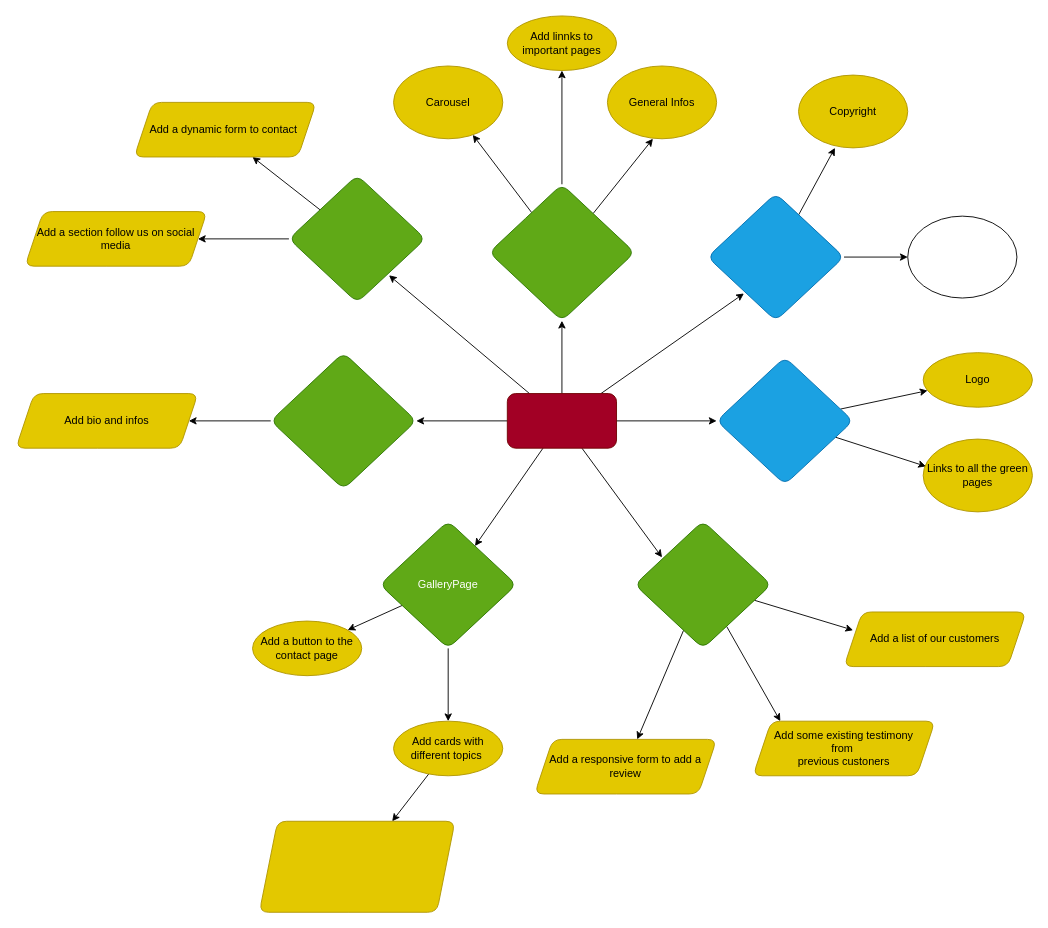
The diagram is 1048 pixels wide and 928 high, and some of its shapes have lost their labels. Here are the shapes that lost their labels. From the top down, the box of each, then its label:
(288, 174, 425, 303): ContactPage
(488, 183, 635, 321): HomePage
(707, 192, 844, 321): Footer (must appear on all pages)
(270, 352, 416, 489): AboutPage
(506, 393, 617, 448): Website
(716, 356, 853, 485): Navbar (must appear on all pages
(634, 520, 771, 648): TestimonyPage
(258, 820, 455, 912): Link the cards to subpages that contains photos of the selected topic
